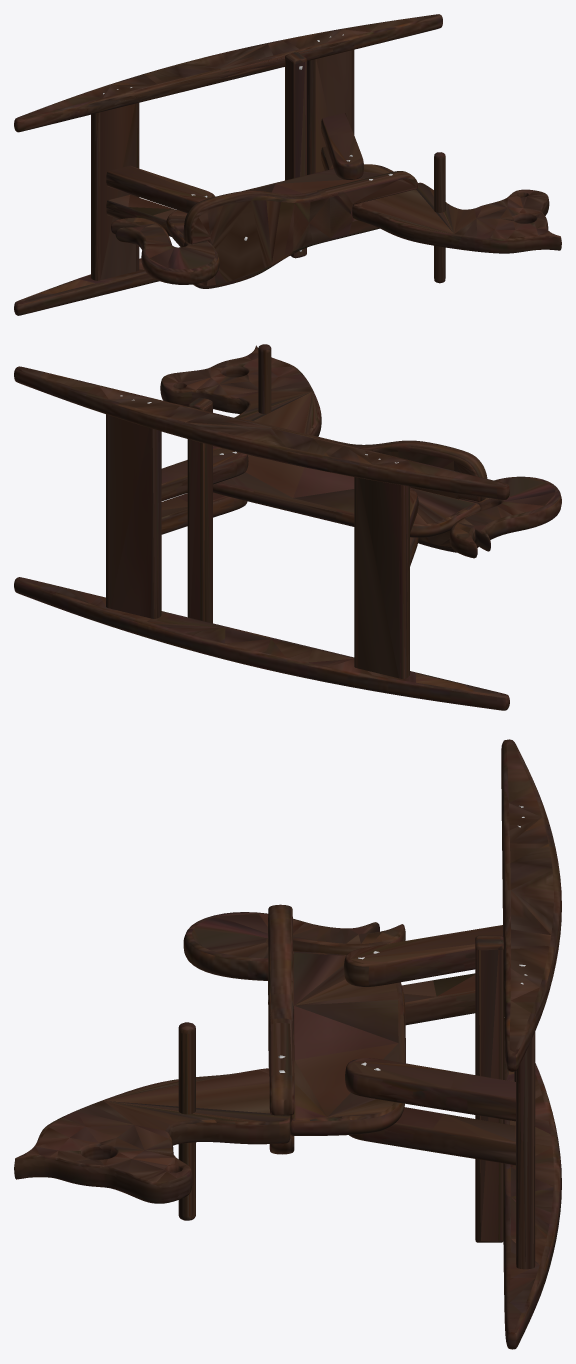
The picture shows the model from 3 angles, top to bottom: view 1: azimuth 30°, elevation 25°; view 2: azimuth 150°, elevation 25°; view 3: azimuth 270°, elevation 25°; orthographic projection. The views are drawn at different scales.
Visible parts, largest first — view 1: 11697_Rocking_horse_v1_L3; view 2: 11697_Rocking_horse_v1_L3; view 3: 11697_Rocking_horse_v1_L3.
Boxes of the visible parts, bbox=[...] form: 11697_Rocking_horse_v1_L3: bbox=[14, 14, 561, 315]; 11697_Rocking_horse_v1_L3: bbox=[14, 344, 561, 710]; 11697_Rocking_horse_v1_L3: bbox=[14, 739, 561, 1349].
Bounding box in the file's own units: 1.77 × 0.782 × 1.29.
